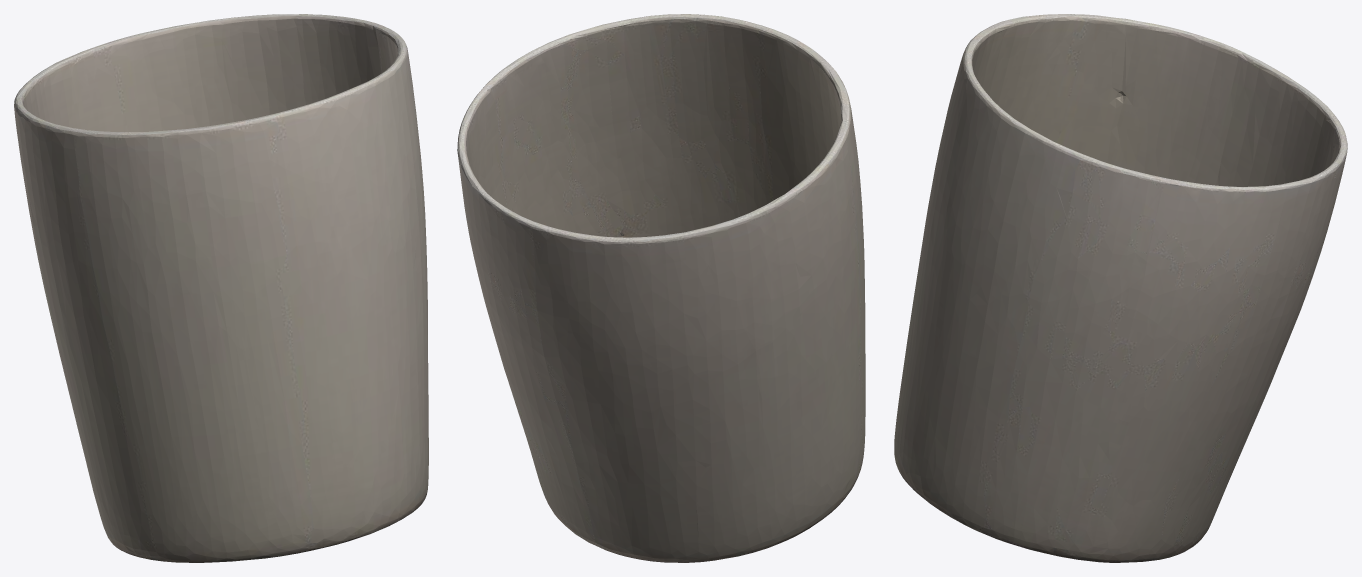
File: white_pot_on_console_table_000.glb
3 views of the same model, side by side, from view 1: azimuth 30°, elevation 25°; view 2: azimuth 150°, elevation 25°; view 3: azimuth 270°, elevation 25° (orthographic). The views are drawn at different scales.
Parts seen in each view (by area): view 1: white_pot_on_console_table_000.obj; view 2: white_pot_on_console_table_000.obj; view 3: white_pot_on_console_table_000.obj.
Boxes of the visible parts, <box> form: white_pot_on_console_table_000.obj: <box>14,14,428,562</box>; white_pot_on_console_table_000.obj: <box>457,14,865,562</box>; white_pot_on_console_table_000.obj: <box>894,14,1347,562</box>.
Bounding box in the file's own units: 0.0931 × 0.1198 × 0.1069.
Materials: 1 (1 with a texture image).
